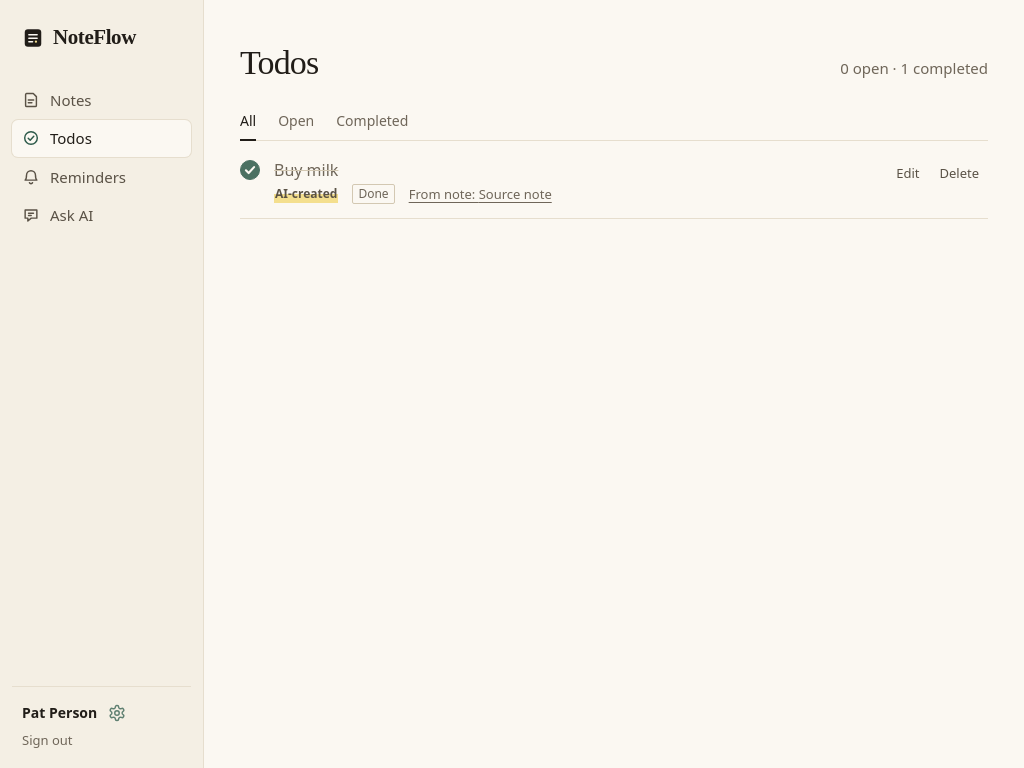
it: completion › marks a done todo as not done again
Click the checkbox named "mark as not done: buy milk". click: [250, 170]
box: [240,160,260,180]
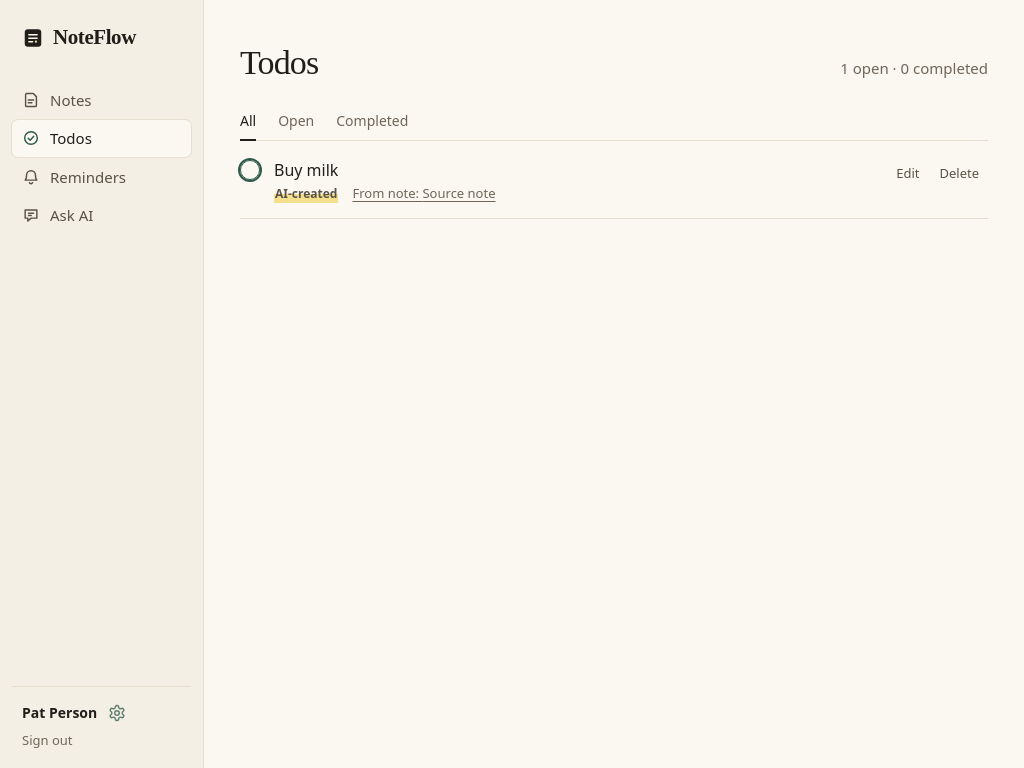
expect the text "1 open · 0 completed" is shown: met, box [840,57,988,80]
